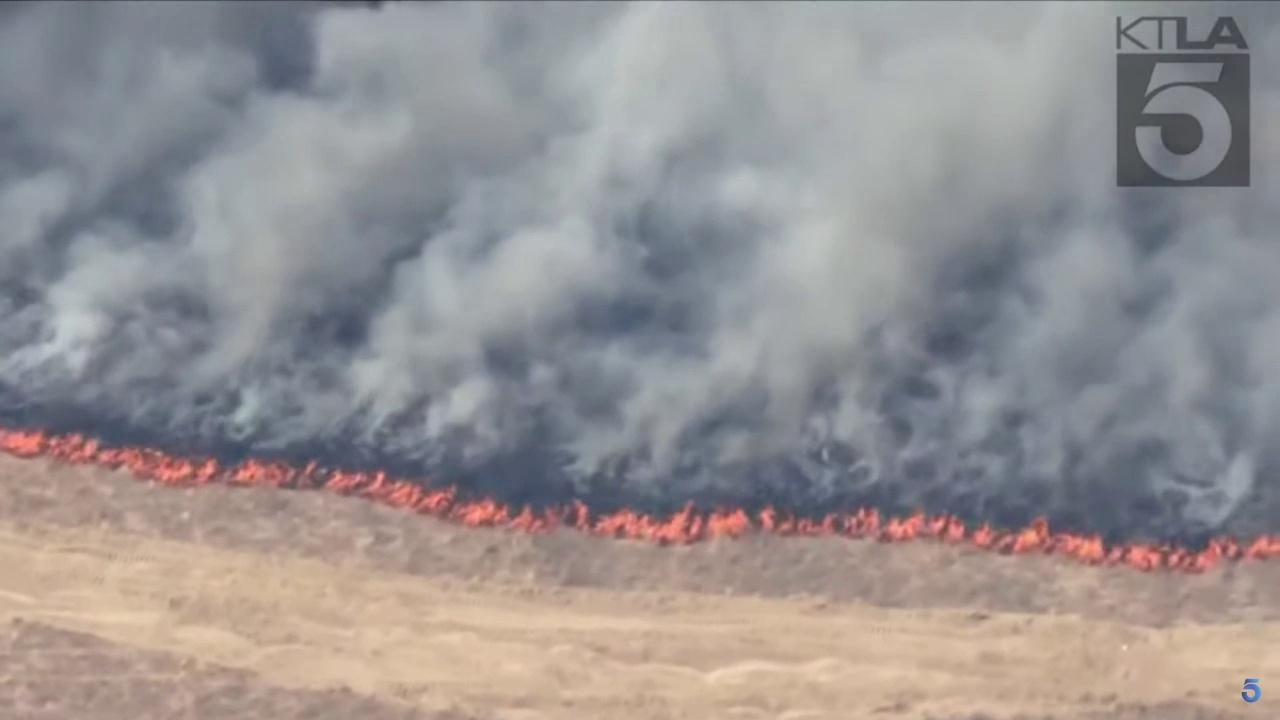fire: (0, 427, 574, 534), (575, 500, 1280, 574)
smoke: (0, 0, 1280, 529)
